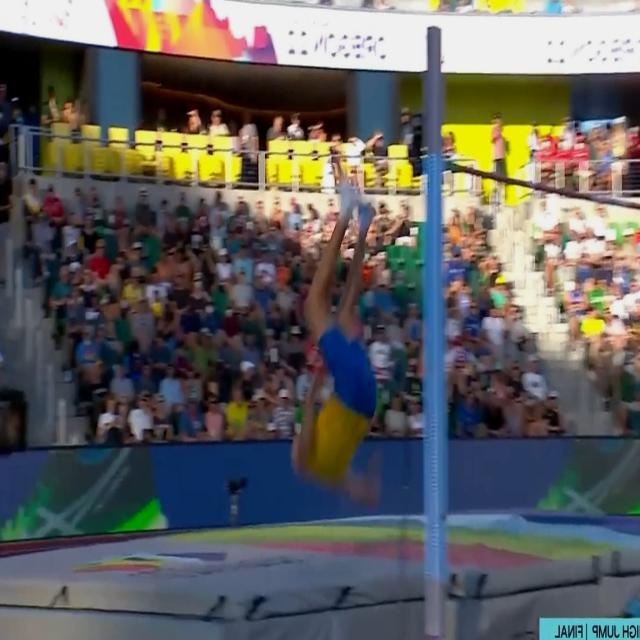land: (289, 176, 378, 485)
